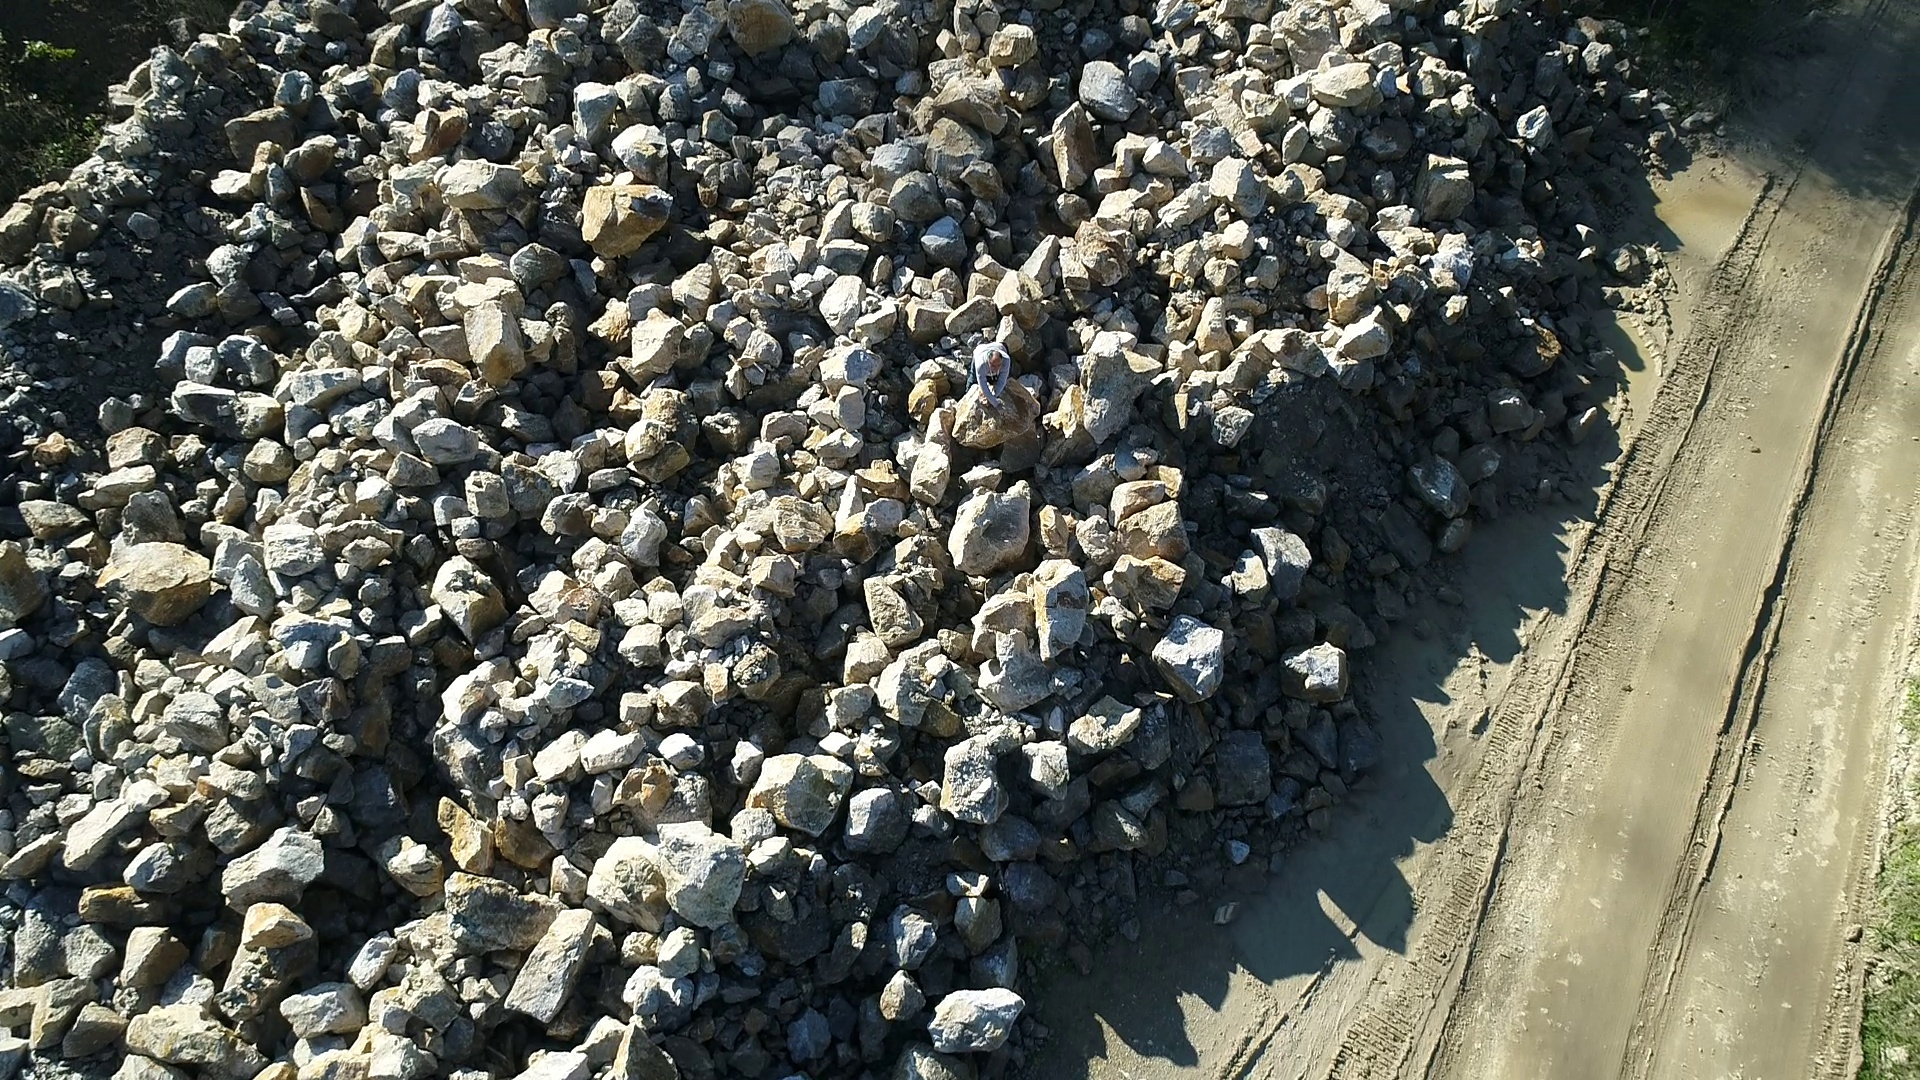person: (963, 339, 1012, 409)
